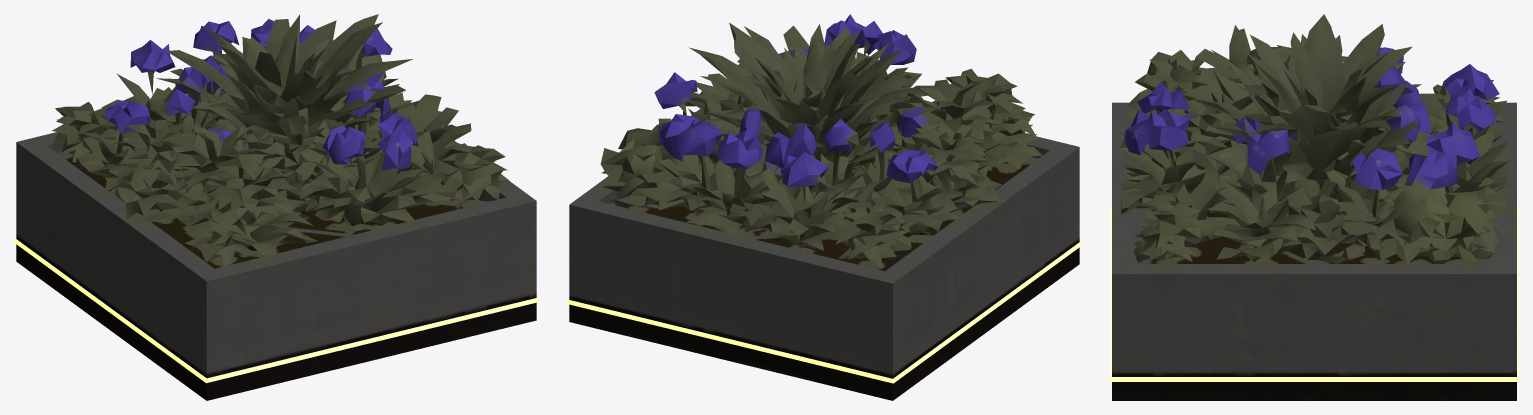
File: planter_square.glb
The picture shows the model from 3 angles, left to right: view 1: azimuth 30°, elevation 25°; view 2: azimuth 150°, elevation 25°; view 3: azimuth 270°, elevation 25°; orthographic projection. The views are drawn at different scales.
Visible parts, largest first — view 1: body, light; view 2: body, light; view 3: body, light.
Part boxes in pixels (x1,y1,x2,y2): body: (16,14,536,400); light: (14,238,538,383); body: (569,14,1079,400); light: (567,241,1081,383); body: (1112,14,1516,400); light: (1110,205,1518,381).
Bounding box in the file's own units: 1.31 × 0.9659 × 1.31.
2 materials, 1 textured.
